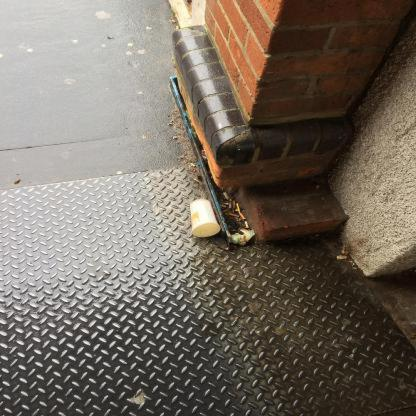Cigarette: (239, 212, 246, 220), (230, 214, 240, 218), (223, 192, 228, 200), (219, 202, 228, 206), (244, 221, 248, 228), (240, 230, 246, 234), (223, 210, 228, 214), (220, 204, 224, 209), (230, 199, 232, 209), (220, 204, 226, 207), (242, 229, 248, 232), (234, 201, 236, 208), (342, 250, 344, 254), (176, 26, 178, 30), (232, 230, 235, 232)
Cup: (190, 199, 219, 237)
Unlabeled litter: (231, 228, 255, 247)
